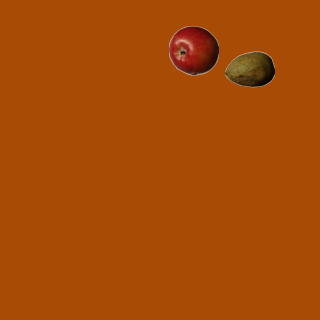Apple Braeburn: (168, 25, 218, 75)
Papaya: (224, 44, 274, 94)
